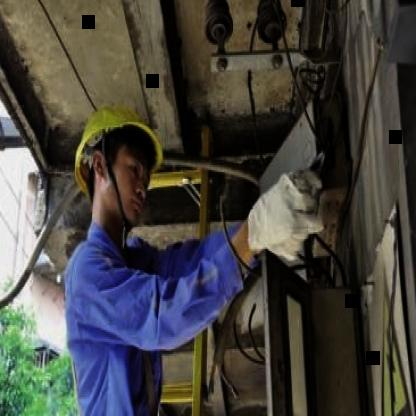helmet: (75, 93, 167, 234)
